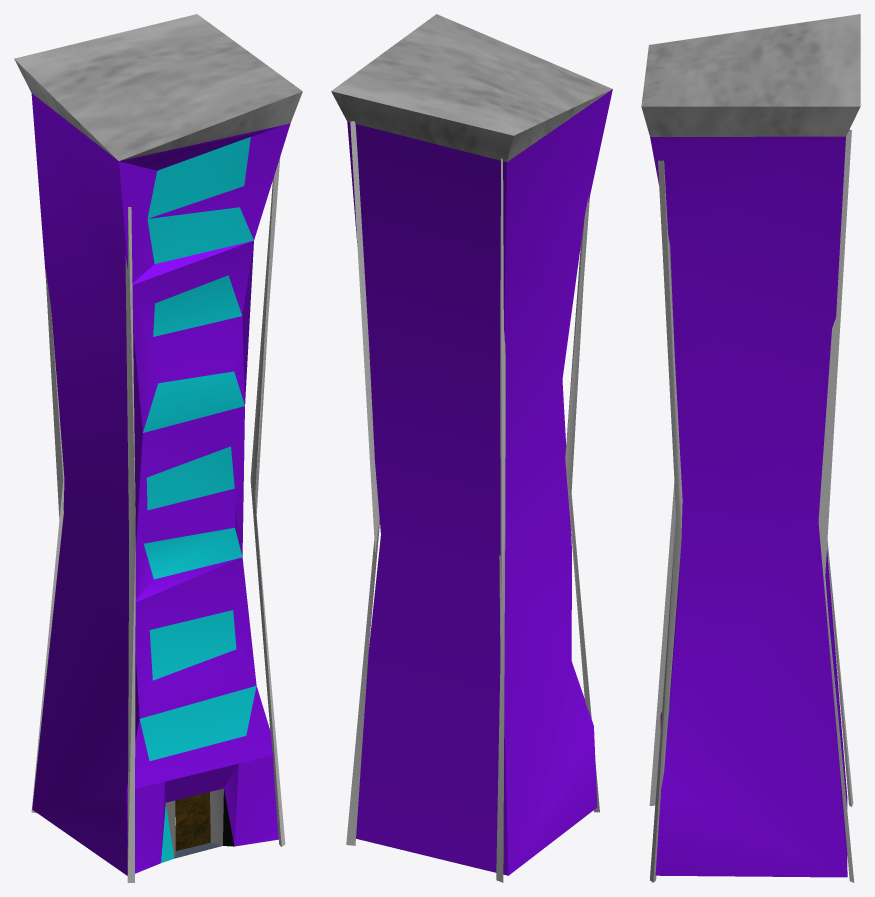
File: PredioAltoFino-RoxoLOD2.fbx
The picture shows the model from 3 angles, left to right: view 1: azimuth 30°, elevation 25°; view 2: azimuth 150°, elevation 25°; view 3: azimuth 270°, elevation 25°; orthographic projection. The views are drawn at different scales.
Parts seen in each view (by area): view 1: PredioAltoFinoLOD2; view 2: PredioAltoFinoLOD2; view 3: PredioAltoFinoLOD2.
Part boxes in pixels (left/top/right/bottom): PredioAltoFinoLOD2: left=14, top=14, right=302, bottom=882; PredioAltoFinoLOD2: left=331, top=14, right=612, bottom=882; PredioAltoFinoLOD2: left=641, top=14, right=860, bottom=882.
Bounding box in the file's own units: 635 × 2499 × 635.
